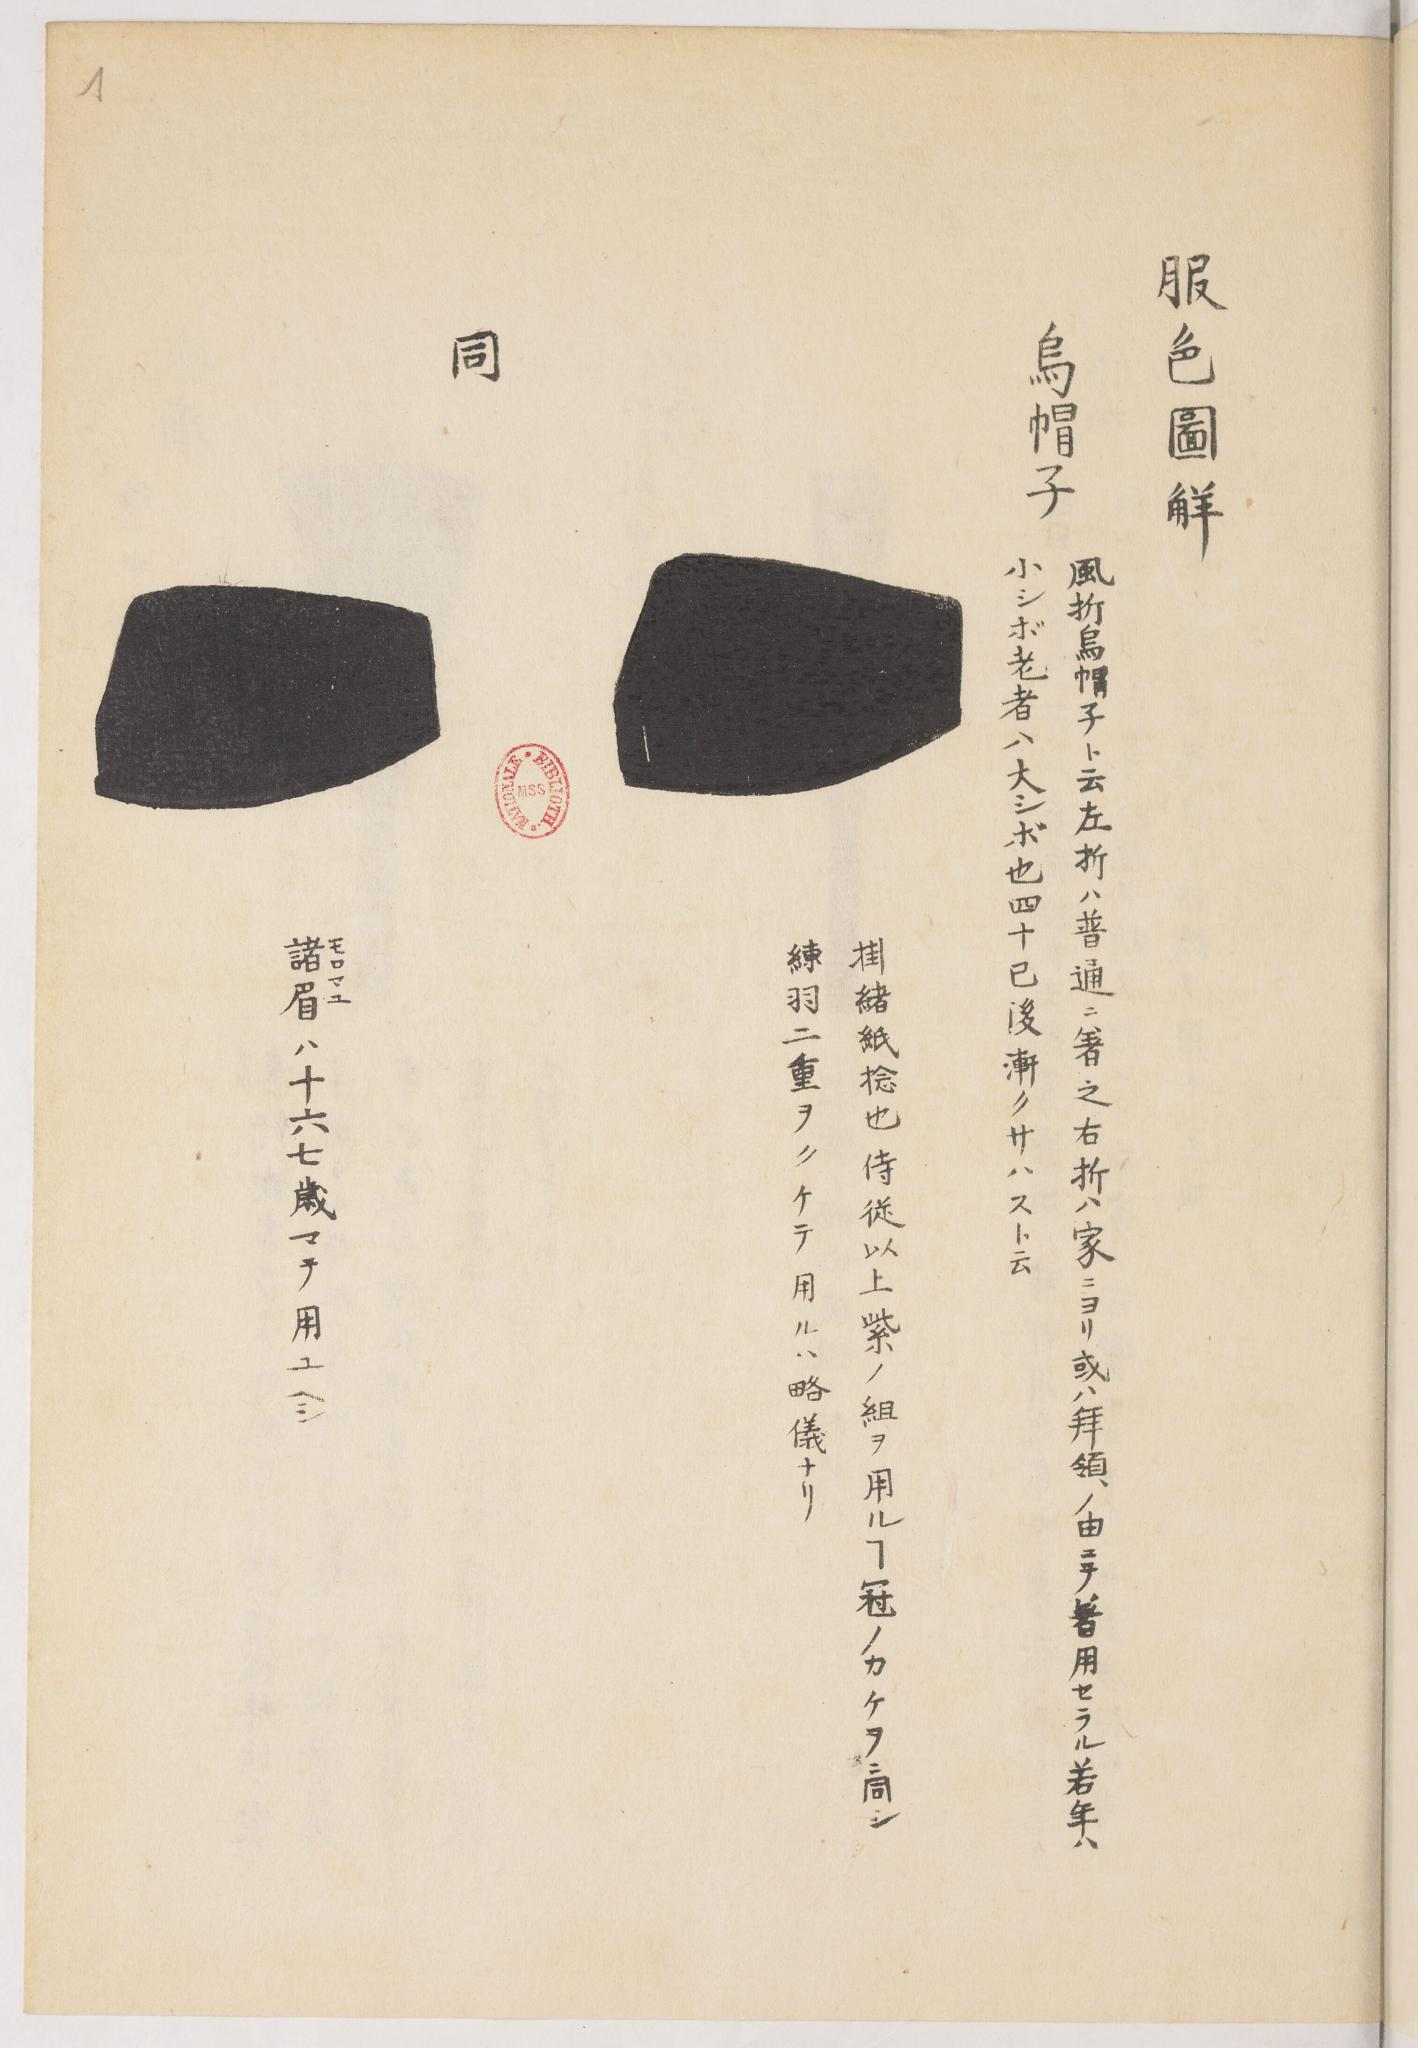MainZone-Character: (276, 974, 356, 1021), (280, 924, 349, 976)
MainZone-Ruby: (327, 928, 350, 973), (325, 976, 352, 1010)
